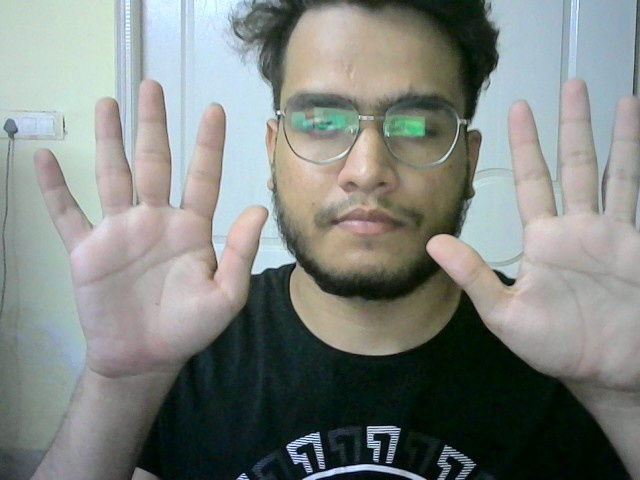Hello: (25, 76, 267, 385)
